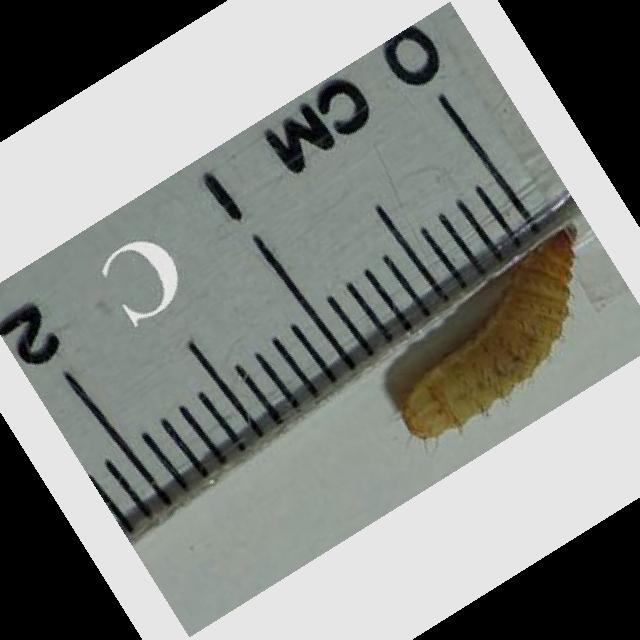Maggot: (400, 221, 583, 443)
